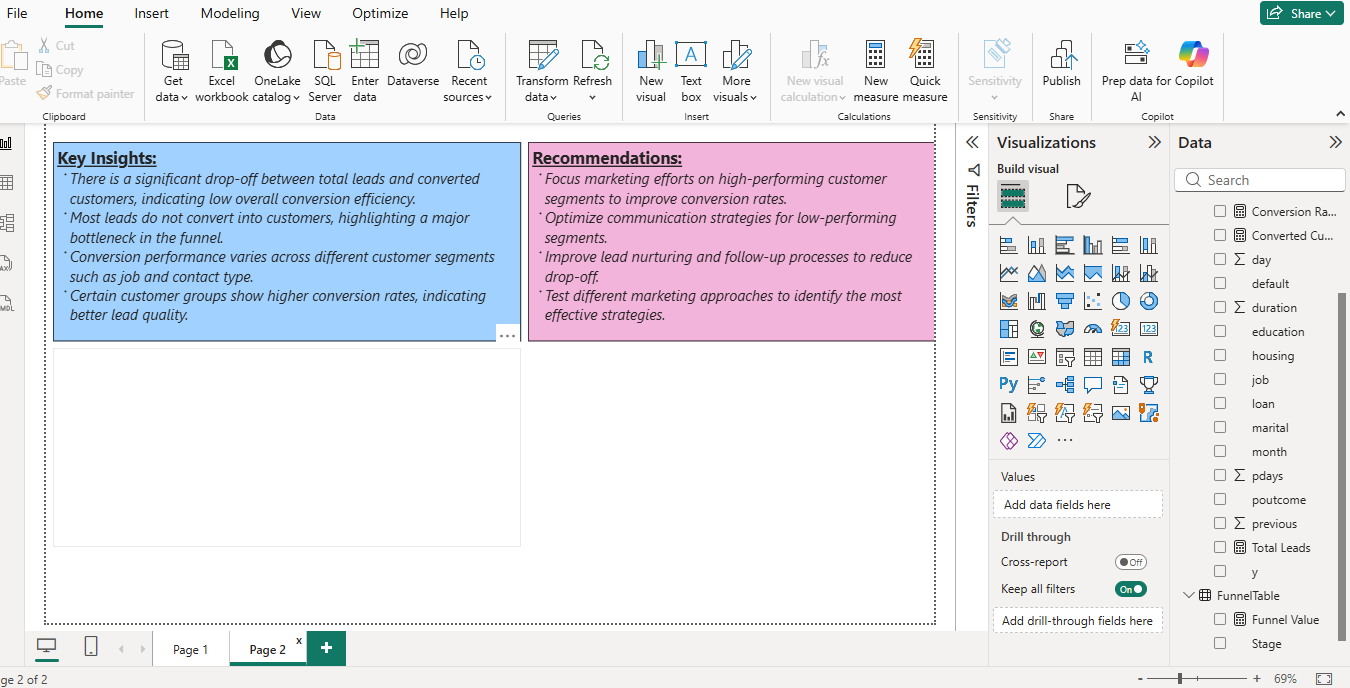

What the dashboard file says about the page in this screenshot:
{"tool":"powerbi","page":{"name":"Page 2","canvas":[1280,720],"ordinal":1},"visuals":[{"type":"textbox","box":[10,0,280,280],"z":0},{"type":"textbox","box":[10.1,26.9,673.6,287.2],"z":1},{"type":"textbox","box":[10,324,674,287],"z":2},{"type":"textbox","box":[694,27,586,287],"z":3}]}

Visuals, with their boxes on the page's 1280x720 design canvas (x1, y1, x2, y2). These are canvas units, not pixel positions in the 1350x688 screenshot, which may show the page scaled, cropped or inside an application window:
textbox: left=10, top=0, right=290, bottom=280
textbox: left=10, top=27, right=684, bottom=314
textbox: left=10, top=324, right=684, bottom=611
textbox: left=694, top=27, right=1280, bottom=314
